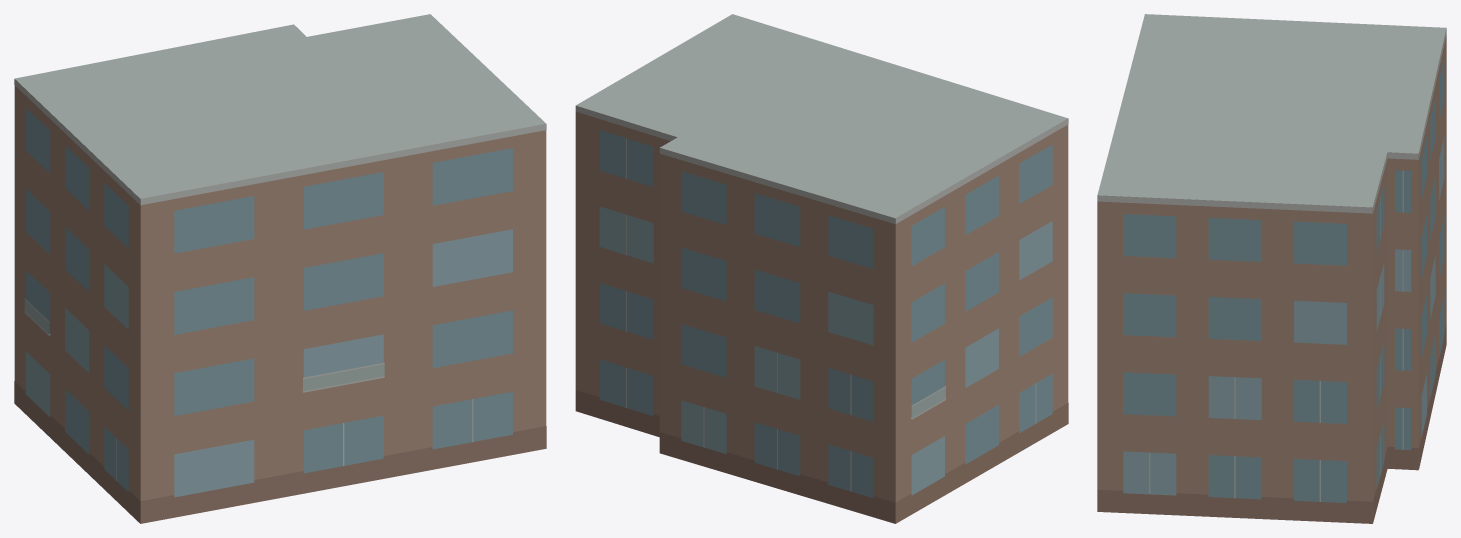
File: survey-upis-33047394.glb
3 renders of one model, left to right at view 1: azimuth 30°, elevation 25°; view 2: azimuth 150°, elevation 25°; view 3: azimuth 270°, elevation 25°, orthographic. The views are drawn at different scales.
Parts seen in each view (by area): view 1: survey-upis-33047394.tmp; view 2: survey-upis-33047394.tmp; view 3: survey-upis-33047394.tmp.
Part boxes in pixels (<box>): survey-upis-33047394.tmp: <box>14,14,546,523</box>; survey-upis-33047394.tmp: <box>575,14,1068,523</box>; survey-upis-33047394.tmp: <box>1097,14,1446,523</box>.
Bounding box in the file's own units: 16.46 × 12.55 × 12.56.
